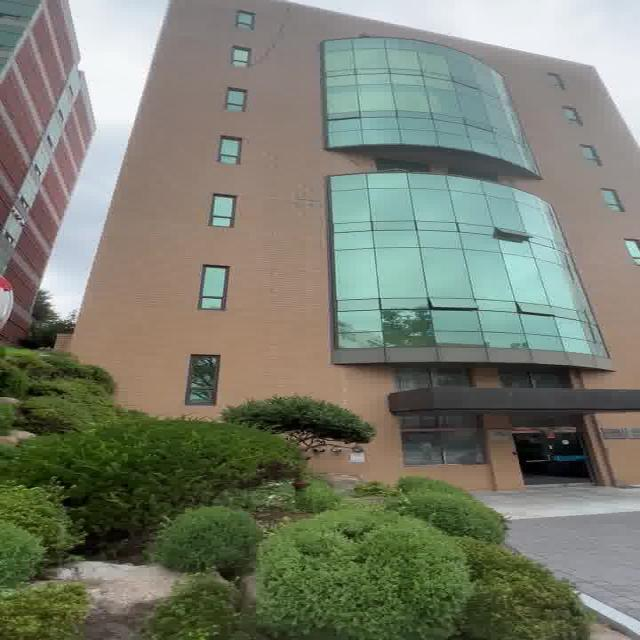building: (114, 17, 640, 405)
